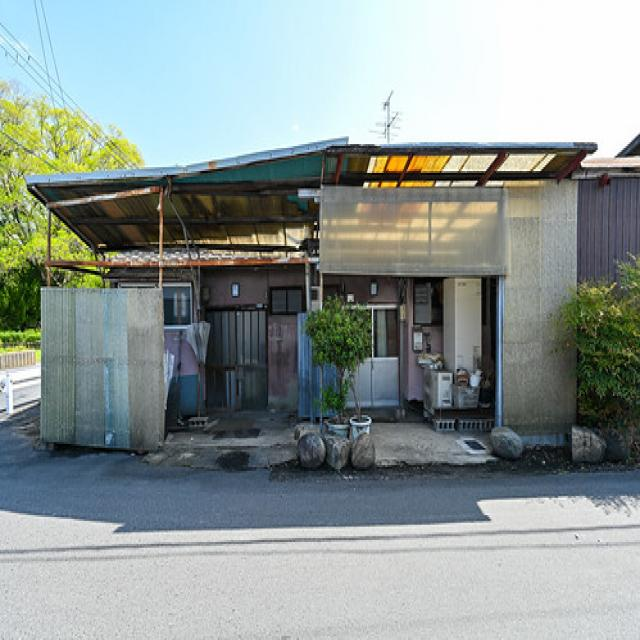Normal_building: (21, 134, 596, 478)
